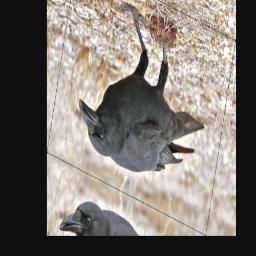Crow: (72, 0, 217, 205)
